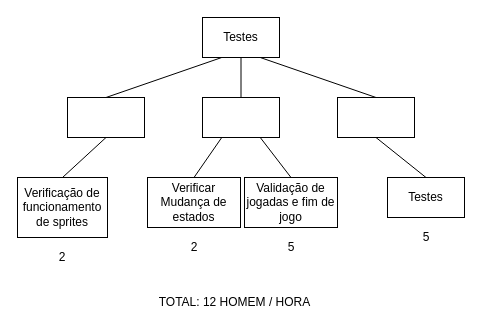
The diagram is 482 pixels wide and 327 high, and some of its shapes have lost their labels. Each missing label, with the centre of its shape:
"Teste de estrutura" belongs at point (241, 117).
"Teste de IA" belongs at point (375, 117).
"Teste de interface" belongs at point (105, 117).
